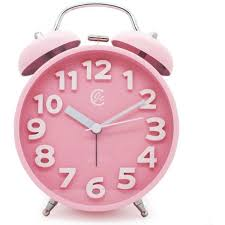alarm_clock: (13, 0, 180, 215), (23, 0, 180, 215)
